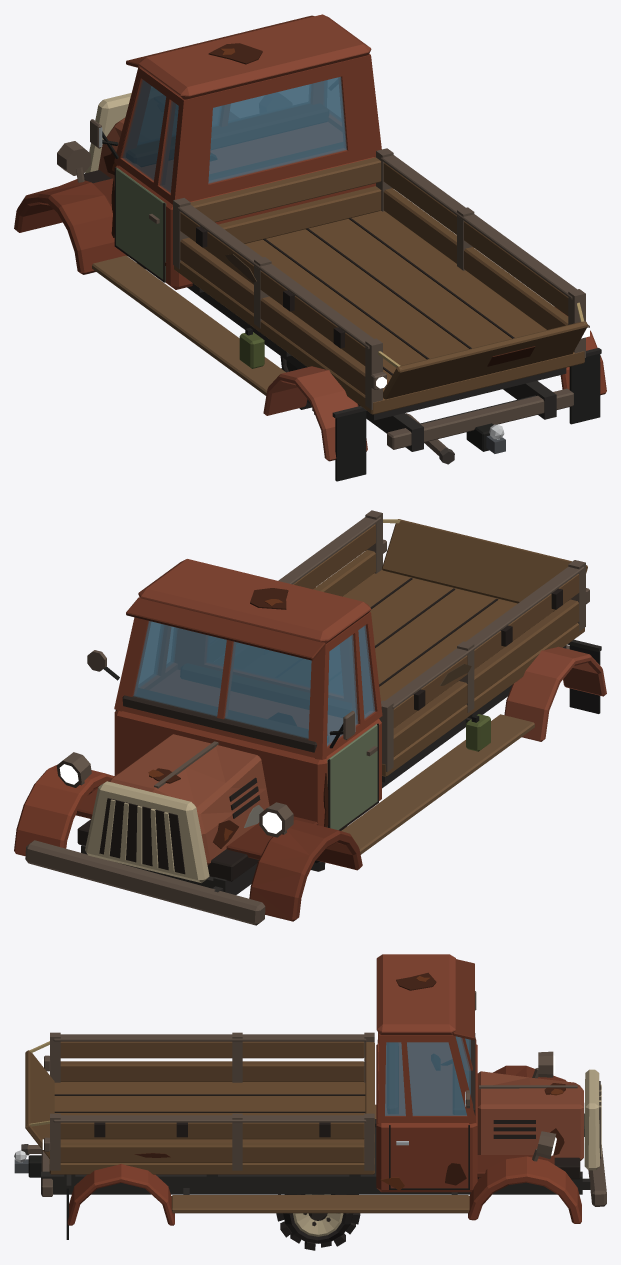
The model's file is Rustbucket.glb.
3 views of the same model, one above another, from view 1: azimuth 30°, elevation 25°; view 2: azimuth 150°, elevation 25°; view 3: azimuth 270°, elevation 25° (orthographic). The views are drawn at different scales.
Visible parts, largest first — view 1: Body, Bed, Glass, Hitch; view 2: Body, Bed, Glass, Lights; view 3: Body, Bed, Glass, Wheel, Hitch.
Boxes of the visible parts, x1,y1,x2,y2 form: Body: [14, 14, 606, 481]; Bed: [173, 148, 587, 420]; Glass: [99, 77, 346, 192]; Hitch: [466, 423, 505, 453]; Body: [14, 539, 606, 925]; Bed: [278, 510, 587, 782]; Glass: [133, 621, 375, 746]; Lights: [59, 540, 386, 833]; Body: [21, 954, 606, 1239]; Bed: [25, 1032, 374, 1181]; Glass: [385, 1036, 470, 1115]; Wheel: [276, 1194, 360, 1250]; Hitch: [14, 1150, 41, 1177].
Size of the model in its own units: 10.64 by 11.39 by 23.7.
